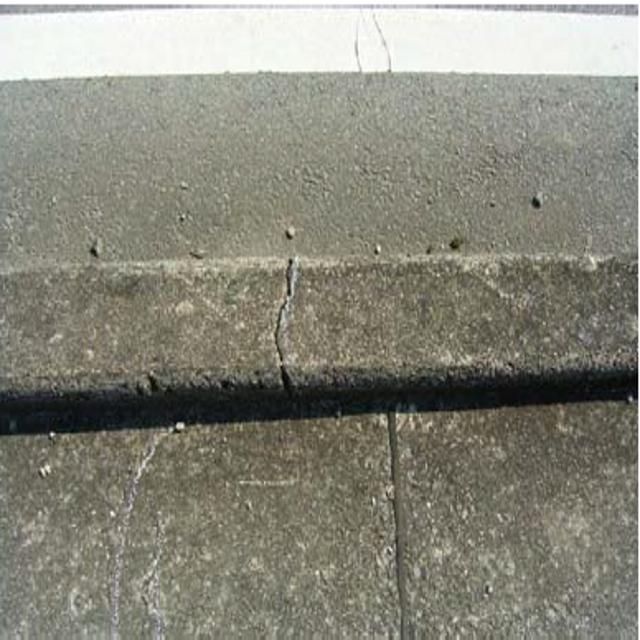crack: (260, 246, 329, 408), (347, 5, 420, 109)
